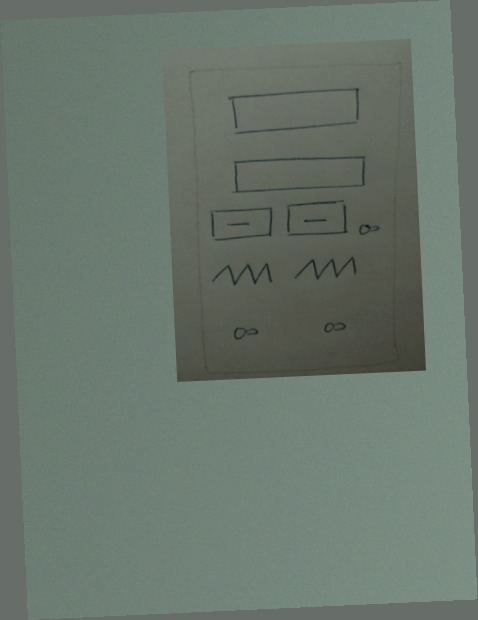button: (282, 199, 355, 241), (207, 203, 277, 244)
switch: (223, 319, 270, 345), (317, 317, 352, 342), (351, 219, 386, 241)
text: (287, 251, 366, 288), (209, 256, 277, 291)
text_input: (222, 85, 368, 137), (226, 148, 368, 199)
